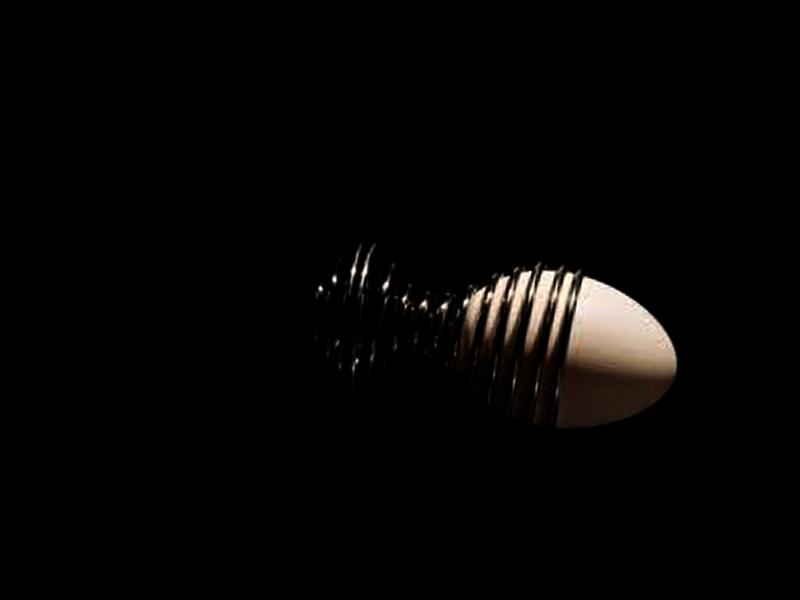Eggs: (448, 258, 689, 442)
